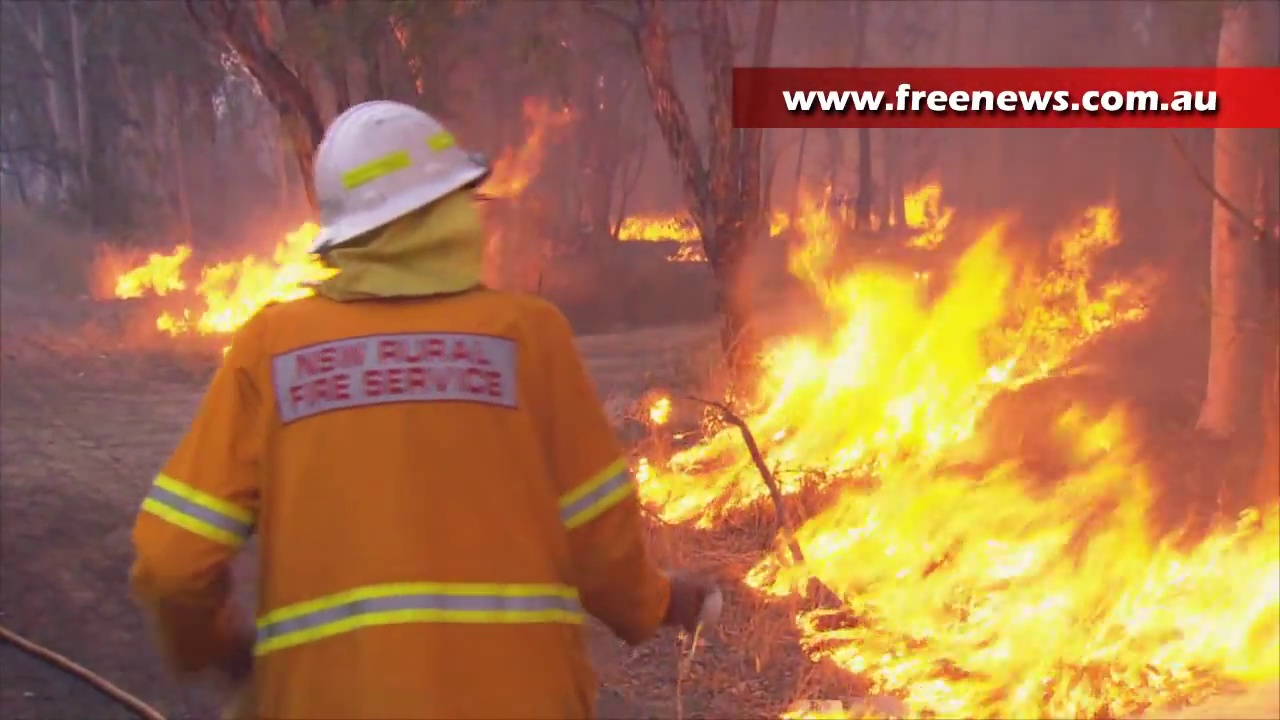fire: (726, 470, 1280, 720), (633, 265, 1153, 473), (198, 230, 317, 330), (1057, 207, 1121, 262), (117, 249, 181, 295), (902, 183, 947, 240), (627, 217, 692, 248)
